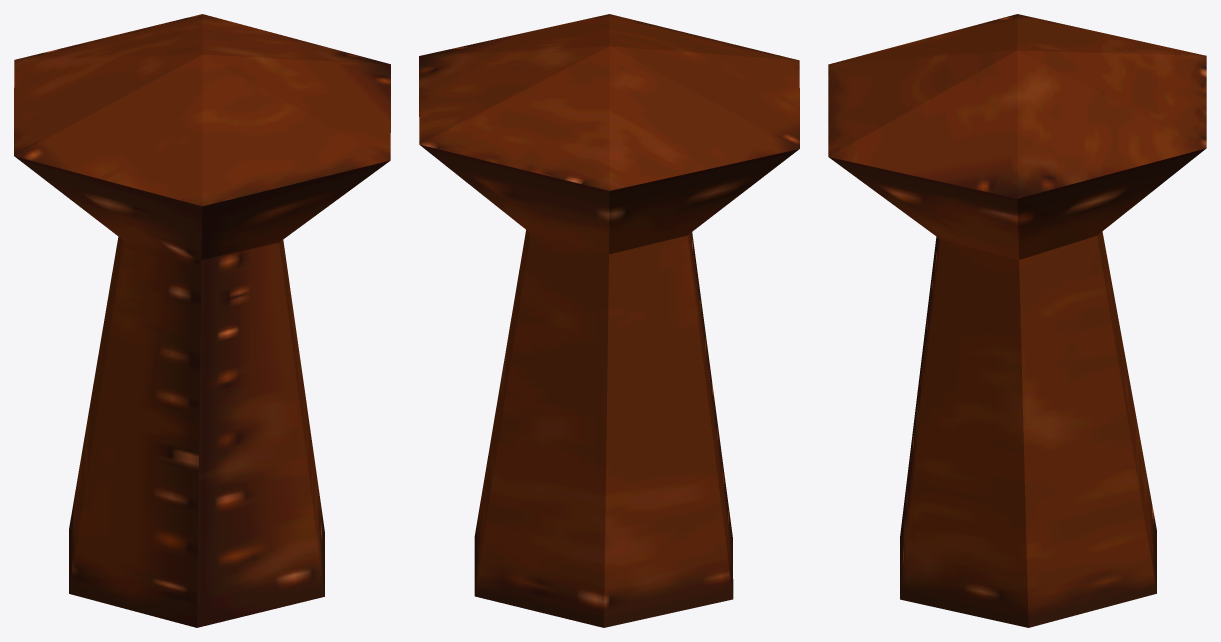
Rendered from Schiff_Pöller_1277.glb.
3 views of the same model, side by side, from view 1: azimuth 30°, elevation 25°; view 2: azimuth 150°, elevation 25°; view 3: azimuth 270°, elevation 25° (orthographic).
Parts seen in each view (by area): view 1: pCylinderShape16; view 2: pCylinderShape16; view 3: pCylinderShape16.
Part boxes in pixels (x1,y1,x2,y2): pCylinderShape16: (14,14,390,627); pCylinderShape16: (419,14,799,627); pCylinderShape16: (828,14,1206,627).
Size of the model in its own units: 0.2411 by 0.3151 by 0.2088.
Materials: 1 (1 with a texture image).
